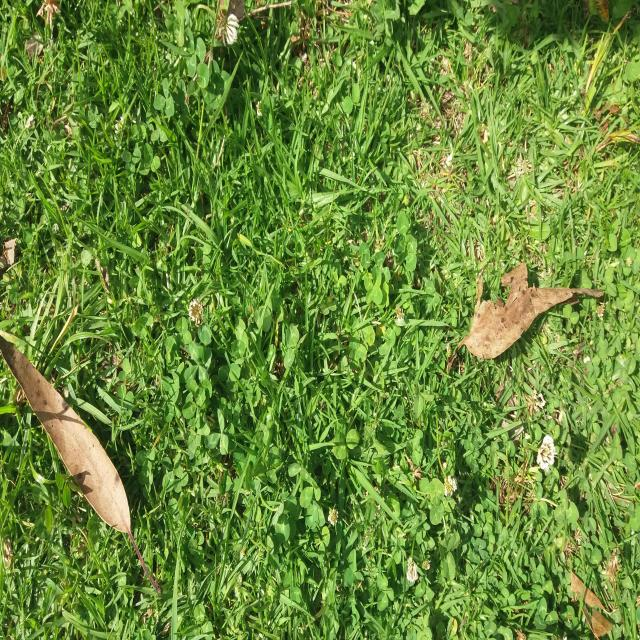Four Leaf Clover: (306, 64, 356, 143), (572, 177, 623, 247), (165, 267, 203, 314), (364, 271, 383, 305)
